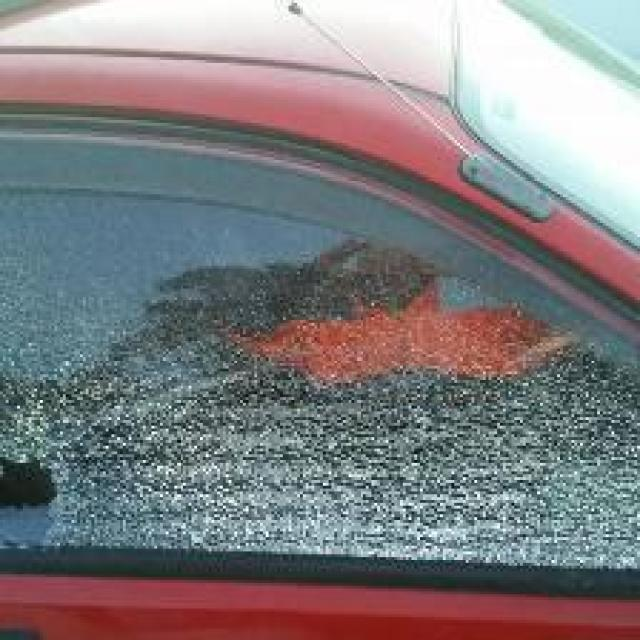damaged: (0, 252, 637, 577)
